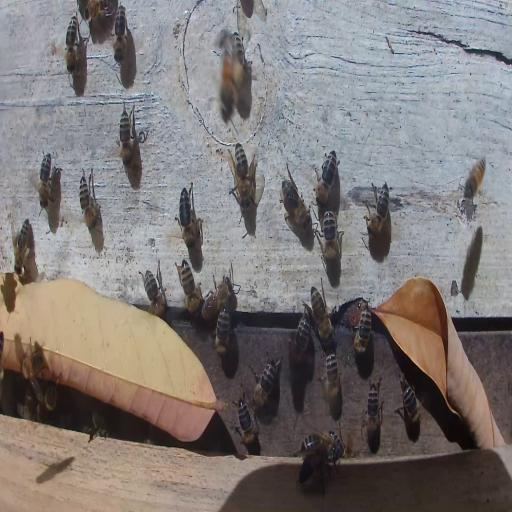bee: (217, 37, 244, 120), (230, 143, 254, 213), (202, 270, 233, 324), (281, 174, 308, 232), (176, 258, 201, 319), (251, 358, 282, 407), (178, 186, 202, 248), (312, 149, 338, 206), (365, 180, 391, 236), (310, 284, 333, 346), (236, 398, 260, 454), (78, 172, 100, 233), (320, 209, 342, 269), (289, 302, 311, 362), (297, 444, 327, 486), (398, 376, 422, 428), (141, 269, 167, 316), (320, 349, 342, 404), (352, 302, 372, 360), (364, 381, 383, 438), (118, 106, 136, 165), (13, 218, 30, 278), (464, 157, 486, 202), (215, 307, 233, 360), (112, 3, 127, 65), (18, 350, 48, 380), (324, 432, 346, 472), (78, 0, 119, 21), (38, 150, 52, 210), (65, 13, 78, 76), (87, 412, 109, 440), (302, 432, 332, 452), (22, 388, 36, 420)
